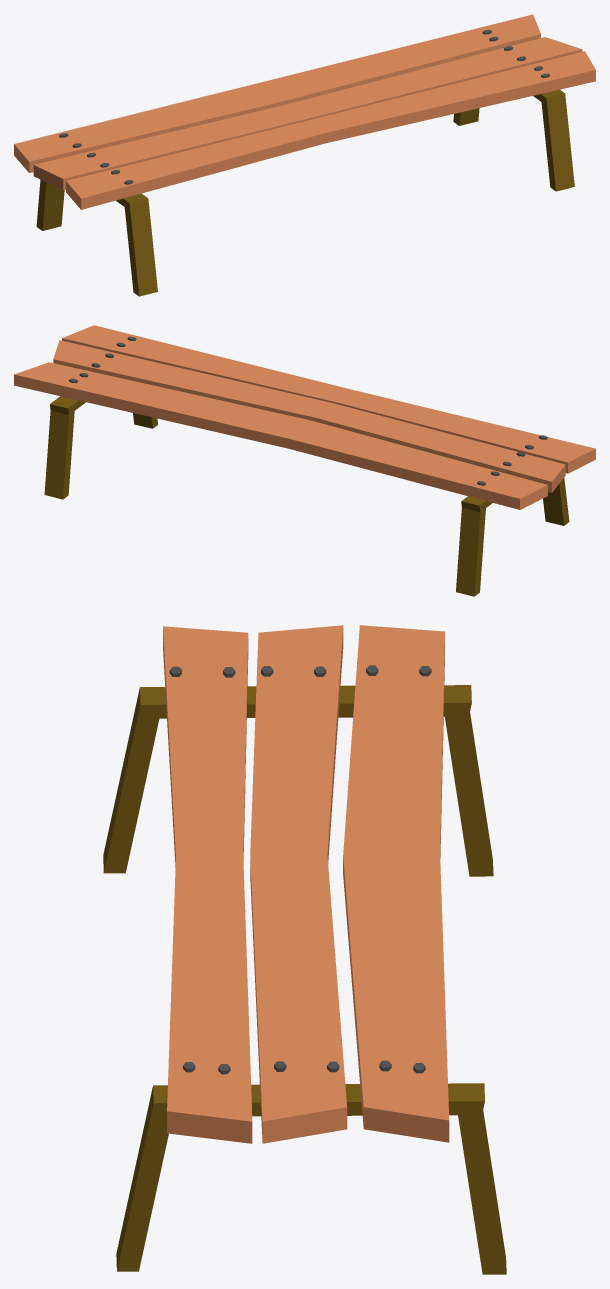
File: bank02.fbx
3 views of the same model, one above another, from view 1: azimuth 30°, elevation 25°; view 2: azimuth 150°, elevation 25°; view 3: azimuth 270°, elevation 25° (orthographic). The views are drawn at different scales.
Parts seen in each view (by area): view 1: Cube.009; view 2: Cube.009; view 3: Cube.009.
Boxes of the visible parts, bbox=[...] form: Cube.009: bbox=[14, 14, 595, 296]; Cube.009: bbox=[14, 325, 595, 596]; Cube.009: bbox=[103, 625, 506, 1274].
Bounding box in the file's own units: 2.75 × 0.5175 × 0.9367.
